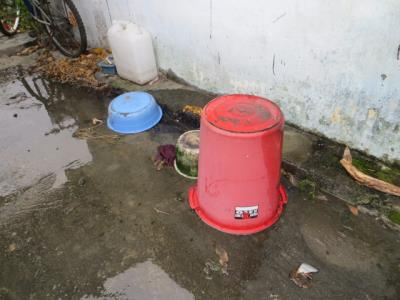bottle: (107, 20, 162, 87)
bowl: (102, 90, 165, 137), (174, 126, 199, 178)
bucket: (186, 91, 291, 238)
